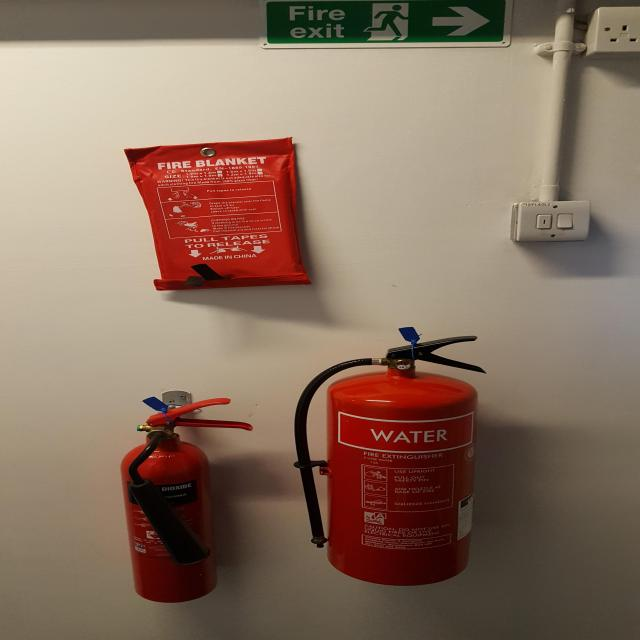fire_extinguisher: (290, 332, 501, 591), (112, 396, 258, 604)
